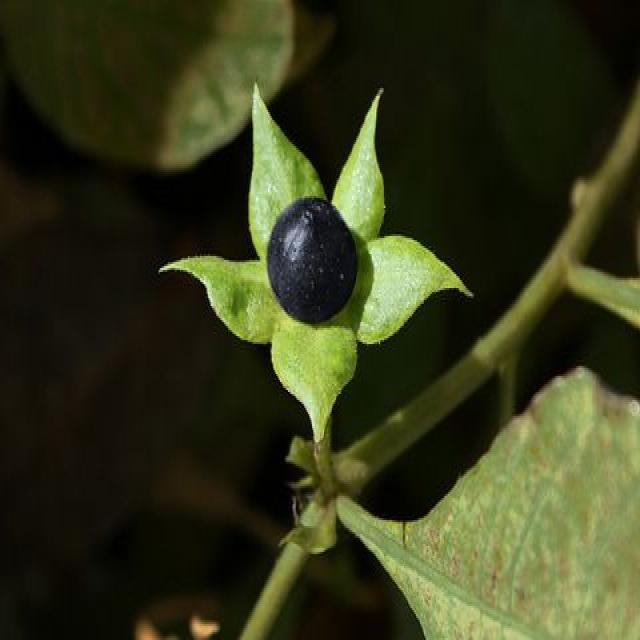Poisonous-Deadly_Nightshade: (162, 78, 470, 474), (348, 360, 640, 639)
